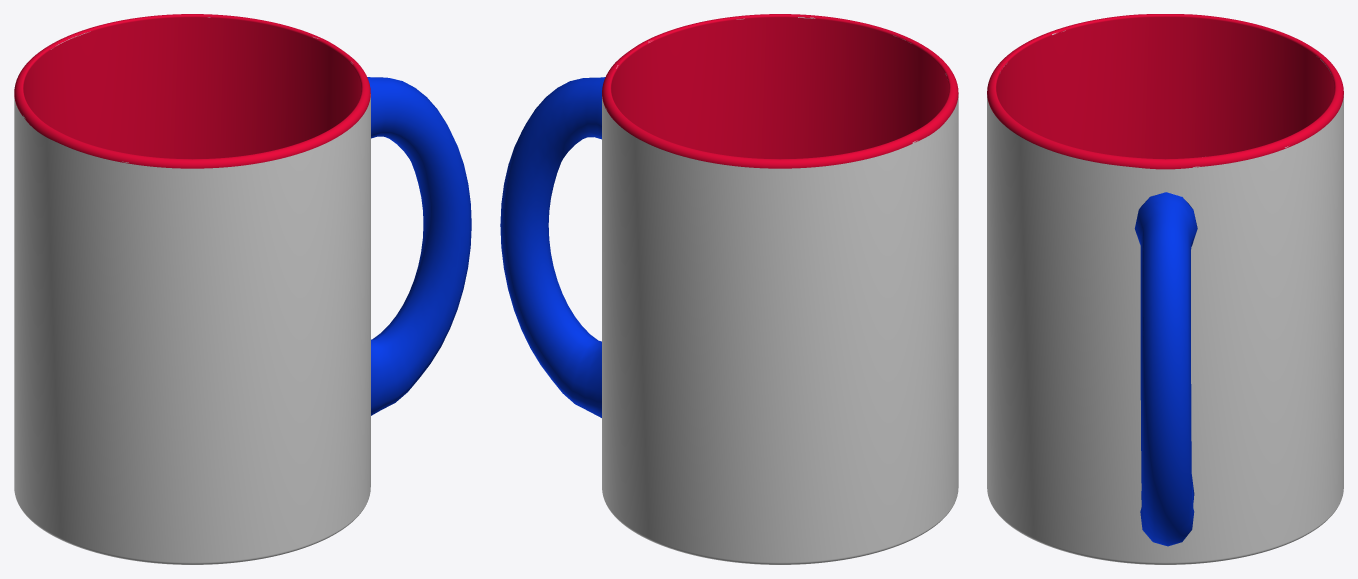
Rendered from taza.glb.
The picture shows the model from 3 angles, left to right: view 1: azimuth 30°, elevation 25°; view 2: azimuth 150°, elevation 25°; view 3: azimuth 270°, elevation 25°; orthographic projection.
Parts seen in each view (by area): view 1: Cylinder_1; view 2: Cylinder_1; view 3: Cylinder_1.
Part boxes in pixels (box(x1,y1,x2,y2)): Cylinder_1: box(14, 14, 471, 564); Cylinder_1: box(500, 14, 958, 564); Cylinder_1: box(987, 14, 1343, 564).
Bounding box in the file's own units: 0.1115 × 0.1 × 0.08.
